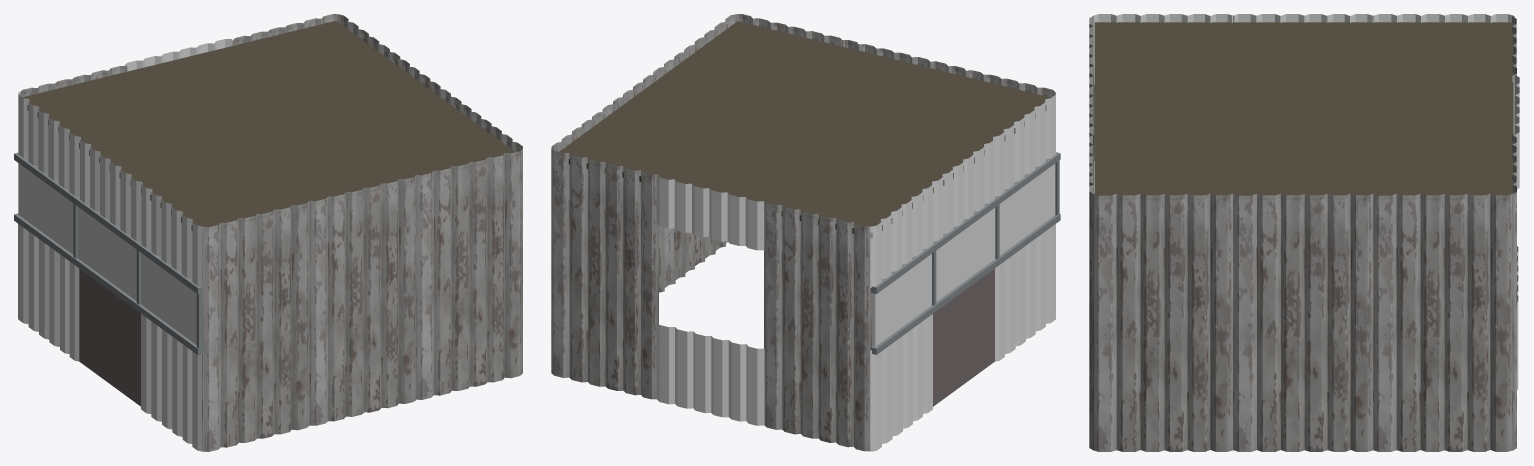
File: metal_factory_building_2.fbx
The picture shows the model from 3 angles, left to right: view 1: azimuth 30°, elevation 25°; view 2: azimuth 150°, elevation 25°; view 3: azimuth 270°, elevation 25°; orthographic projection. The views are drawn at different scales.
Visible parts, largest first — view 1: Cube.017, Plane.007, Plane.009, Plane.008, Cube.016, Plane.014, Plane.016, Cube.015, Plane.010, Plane.013, Plane.011, Cube.007 (+7 smaller); view 2: Cube.017, Plane.019, Plane.012, Cube.016, Plane.018, Plane.016, Plane.014, Cube.015, Plane.015, Plane.013, Plane.011, Plane.010 (+8 smaller); view 3: Cube.017, Plane.023, Plane.024, Plane.022, Plane.009, Plane.012, Plane.010, Plane.013, Plane.011, Plane.015.
Boxes of the visible parts, box(x1,y1,x2,y2) form: Cube.017: box(22, 21, 515, 230); Plane.007: box(309, 175, 416, 425); Plane.009: box(415, 149, 522, 399); Plane.008: box(202, 201, 309, 451); Cube.016: box(18, 163, 196, 344); Plane.014: box(141, 314, 203, 451); Plane.016: box(18, 224, 79, 361); Cube.015: box(79, 268, 140, 406); Plane.010: box(141, 183, 203, 287); Plane.013: box(18, 92, 80, 196); Plane.011: box(80, 139, 142, 241); Cube.007: box(14, 152, 203, 294); Cube.017: box(559, 21, 1050, 237); Plane.019: box(764, 200, 871, 451); Plane.012: box(551, 148, 658, 399); Cube.016: box(872, 164, 1055, 346); Plane.018: box(656, 322, 764, 425); Plane.016: box(870, 314, 932, 451); Plane.014: box(995, 224, 1055, 361); Cube.015: box(933, 268, 994, 406); Plane.015: box(656, 175, 764, 250); Plane.013: box(870, 183, 933, 287); Plane.011: box(932, 138, 994, 241); Plane.010: box(993, 92, 1055, 196); Cube.017: box(1094, 22, 1513, 195); Plane.023: box(1232, 193, 1374, 451); Plane.024: box(1372, 193, 1514, 451); Plane.022: box(1092, 193, 1233, 451); Plane.009: box(1089, 134, 1093, 450); Plane.012: box(1512, 134, 1516, 450); Plane.010: box(1092, 14, 1234, 83); Plane.013: box(1372, 14, 1514, 22); Plane.011: box(1232, 14, 1373, 22); Plane.015: box(1515, 75, 1519, 189).
Bounding box in the file's own units: 1153 × 757 × 1150.
